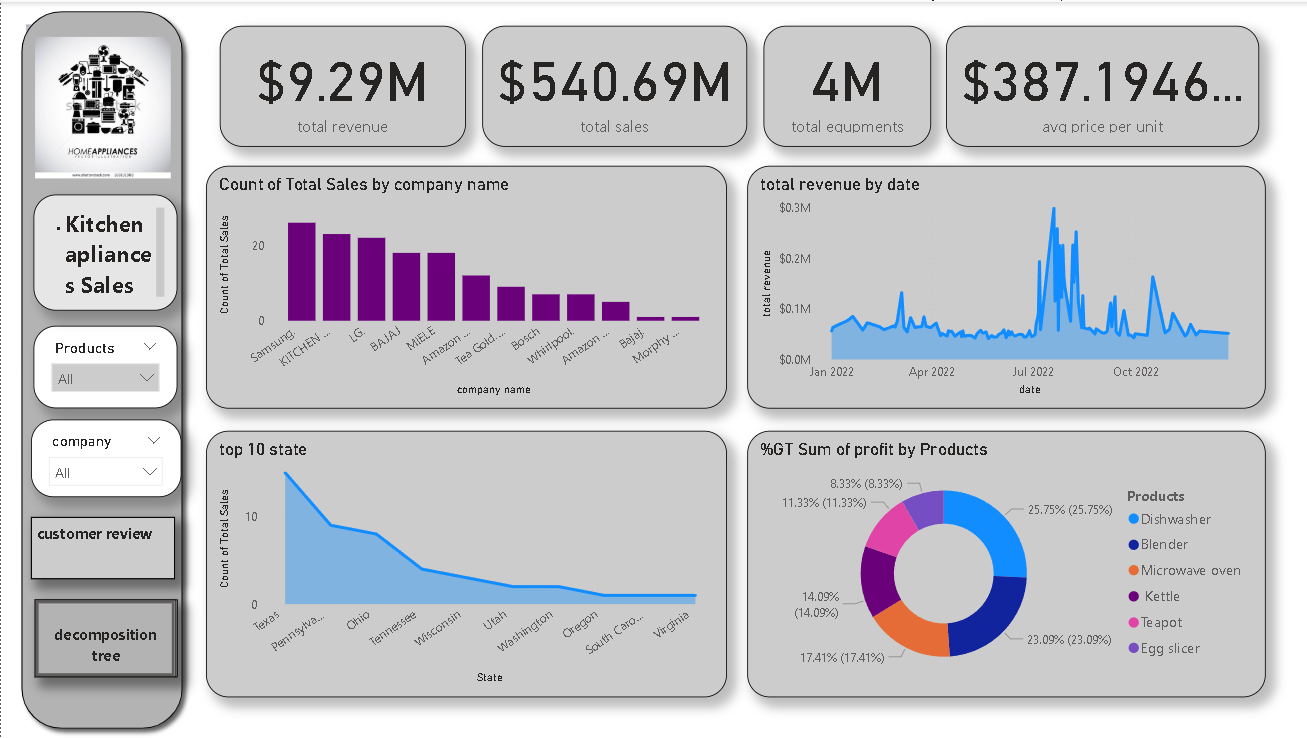

The dashboard page shown, as its layout file describes it:
{"tool":"powerbi","page":{"name":"kitchen sales","canvas":[1280,720],"ordinal":0},"visuals":[{"type":"image","box":[11.5,17.3,148.3,136.8],"z":0},{"type":"shape","box":[11.5,0,175.7,720],"z":1000},{"type":"card","fields":{"Values":["all measures.total revenue"]},"box":[214.6,23,240.5,118.1],"z":2000},{"type":"card","fields":{"Values":["all measures.total sales"]},"box":[470.9,23,259.2,118.1],"z":3000},{"type":"card","fields":{"Values":["all measures.total equpments"]},"box":[745.9,23,164.2,118.1],"z":4000},{"type":"clusteredColumnChart","fields":{"Category":["product and company.company name"],"Y":["CountNonNull(sales.Total Sales)"]},"box":[200.2,159.8,509.8,237.6],"z":5000},{"type":"donutChart","fields":{"Category":["product and company.Products"],"Y":["CountNonNull(sales.profit)"]},"box":[730.1,419,506.9,260.6],"z":6000},{"type":"stackedAreaChart","fields":{"Category":["date.date"],"Y":["all measures.total revenue"]},"box":[730.1,159.8,506.9,237.6],"z":7000},{"type":"slicer","fields":{"Values":["product and company.Products"]},"box":[31.7,316.8,141.1,80.6],"z":8000},{"type":"areaChart","title":" top 10 state","fields":{"Category":["state and region.State"],"Y":["CountNonNull(sales.Total Sales)"]},"box":[200.2,419,509.8,260.6],"z":9000},{"type":"card","fields":{"Values":["all measures.avg price per unit"]},"box":[924.5,23,306.7,118.1],"z":10000},{"type":"slicer","fields":{"Values":["product and company.company name"]},"box":[28.8,409,146.9,76.3],"z":11000},{"type":"textbox","box":[31.7,188.6,141.1,113.8],"z":12000},{"type":"image","box":[5.8,28.8,187.2,148.3],"z":13000},{"type":"textbox","box":[28.8,504,141.1,60.5],"z":14000},{"type":"actionButton","box":[28.8,504,141.1,60.5],"z":15000},{"type":"textbox","box":[33.1,584.6,139.7,76.3],"z":16000},{"type":"actionButton","box":[33.1,584.6,138.2,76.3],"z":17000}]}

Visuals, with their boxes in screenshot pixels (x1, y1, x2, y2), scaled from the page's 1280x720 canvas onto the 1307x738 screenshot:
image: select_region(12, 18, 163, 158)
shape: select_region(12, 0, 191, 737)
card - all measures.total revenue: select_region(219, 24, 465, 145)
card - all measures.total sales: select_region(481, 24, 746, 145)
card - all measures.total equpments: select_region(762, 24, 929, 145)
clusteredColumnChart - product and company.company name x CountNonNull(sales.Total Sales): select_region(204, 164, 725, 407)
donutChart - product and company.Products x CountNonNull(sales.profit): select_region(746, 429, 1263, 697)
stackedAreaChart - date.date x all measures.total revenue: select_region(746, 164, 1263, 407)
slicer - product and company.Products: select_region(32, 325, 176, 407)
" top 10 state" areaChart: select_region(204, 429, 725, 697)
card - all measures.avg price per unit: select_region(944, 24, 1257, 145)
slicer - product and company.company name: select_region(29, 419, 179, 497)
textbox: select_region(32, 193, 176, 310)
image: select_region(6, 30, 197, 182)
textbox: select_region(29, 517, 173, 579)
actionButton: select_region(29, 517, 173, 579)
textbox: select_region(34, 599, 176, 677)
actionButton: select_region(34, 599, 175, 677)
